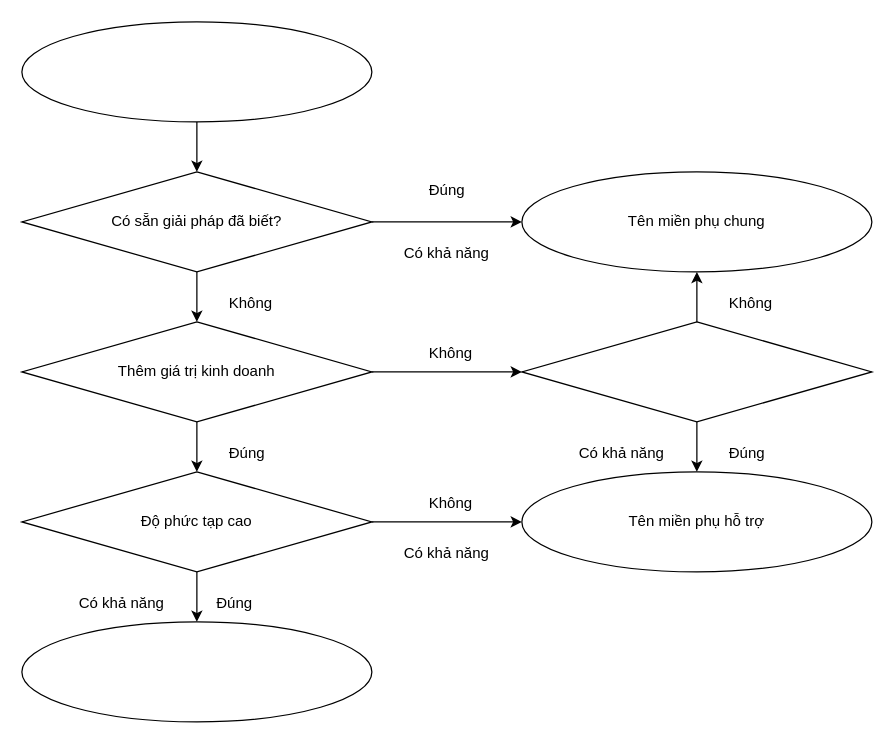
Some shapes in this 894 by 744 pixel diagram are drawn without their labels. Each missing label, with the box of its shape:
Nghiệp vụ kinh doanh: (21, 21, 372, 122)
Tên miền phụ cốt lõi: (21, 621, 372, 722)
Tên miền phụ cốt lõi có phụ thuộc?: (521, 321, 872, 422)
